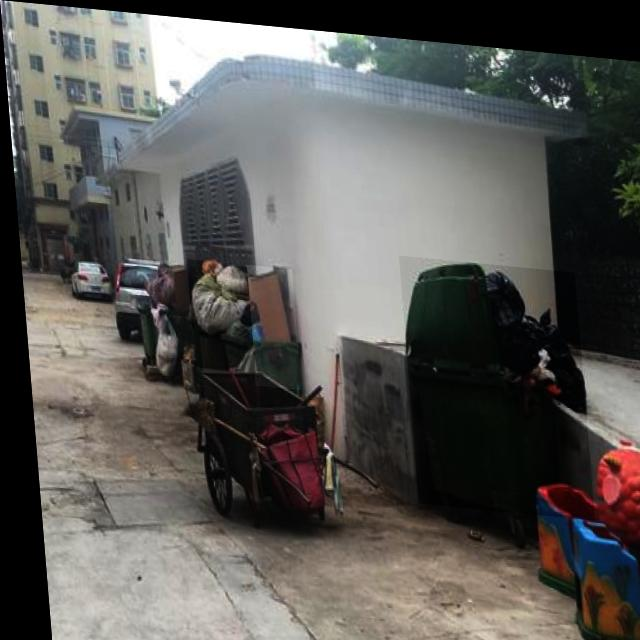overflow: (395, 248, 587, 509), (242, 260, 295, 385), (211, 260, 249, 368), (182, 256, 219, 366)
